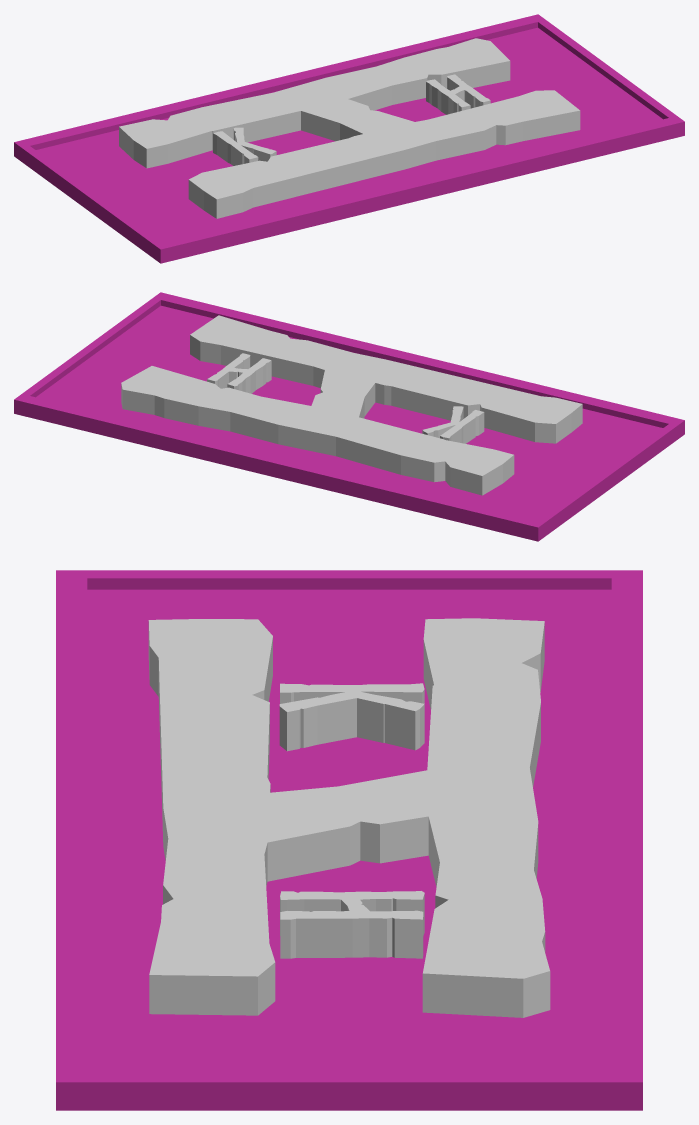
File: KHH.glb
The picture shows the model from 3 angles, top to bottom: view 1: azimuth 30°, elevation 25°; view 2: azimuth 150°, elevation 25°; view 3: azimuth 270°, elevation 25°; orthographic projection. The views are drawn at different scales.
Parts seen in each view (by area): view 1: Mesh_Mesh_head_geo.001_lambert2SG.001; view 2: Mesh_Mesh_head_geo.001_lambert2SG.001; view 3: Mesh_Mesh_head_geo.001_lambert2SG.001.
Boxes of the visible parts, bbox=[...] form: Mesh_Mesh_head_geo.001_lambert2SG.001: bbox=[14, 14, 684, 263]; Mesh_Mesh_head_geo.001_lambert2SG.001: bbox=[14, 292, 684, 541]; Mesh_Mesh_head_geo.001_lambert2SG.001: bbox=[56, 570, 642, 1110].
Size of the model in its own units: 0.244 by 0.0125 by 0.1182.
